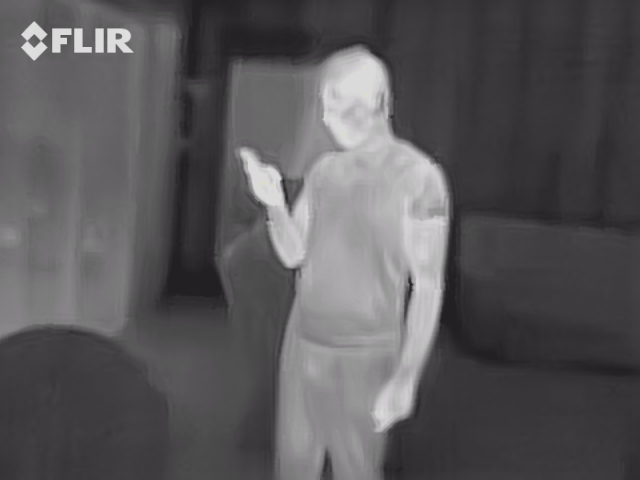head: (314, 43, 393, 146)
